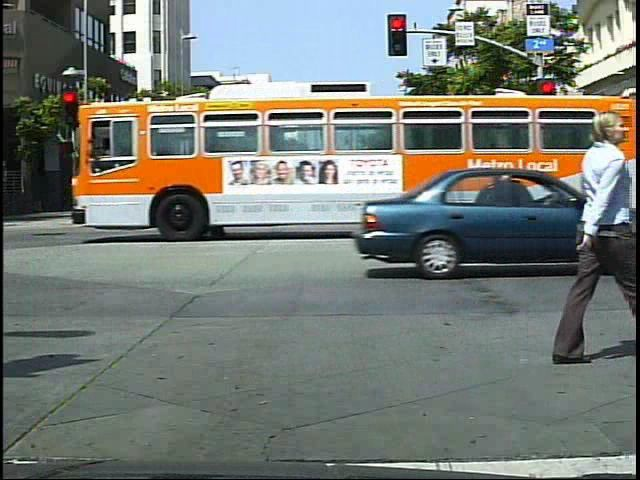person: (549, 93, 639, 396), (298, 165, 330, 229), (202, 167, 231, 233), (327, 166, 356, 230), (548, 160, 571, 211)
